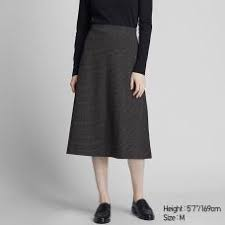S_skirt: (58, 25, 154, 162)
